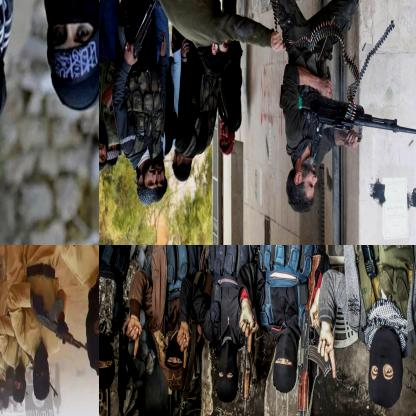rifle: (277, 72, 415, 145), (101, 0, 163, 111), (293, 255, 333, 415), (32, 293, 88, 356), (176, 314, 199, 415), (116, 332, 139, 415), (241, 331, 257, 415)
